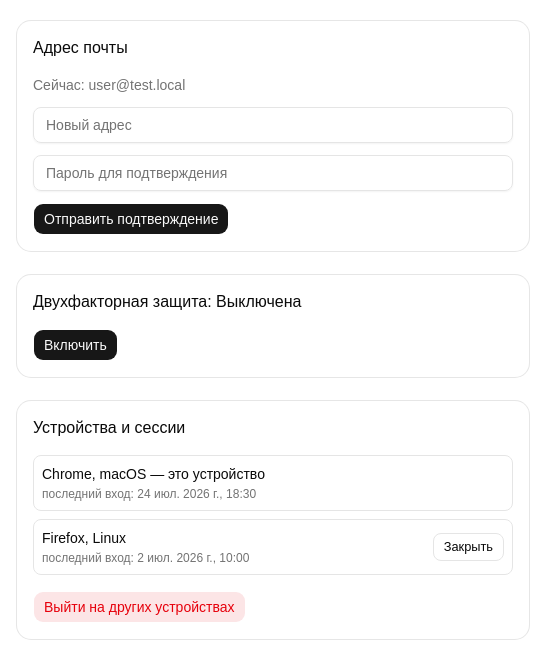
в настройках видны устройства, чужое можно закрыть
(page scrolled)
Expected: the text "Chrome, macOS — это устройство" is shown, [42,464,265,484]
Expected: the text "Firefox, Linux" is shown, [42,530,126,546]
Click the button "Выйти на других устройствах": click(139, 607) [33,591,246,623]
(page scrolled)
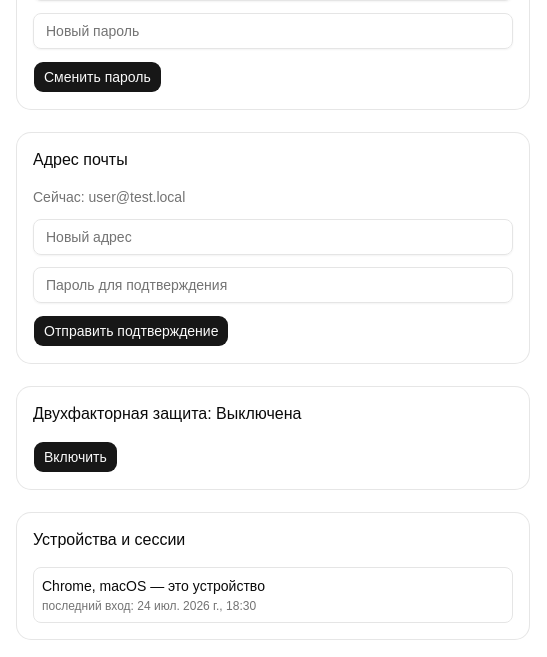
Expected: the text "Firefox, Linux" is gone
